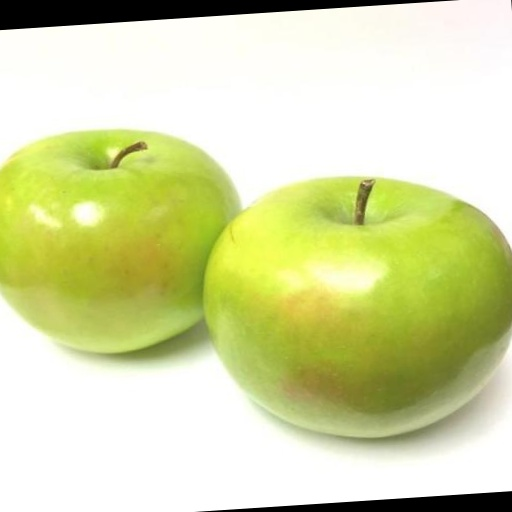fruit: (204, 177, 512, 437), (0, 130, 238, 352)
